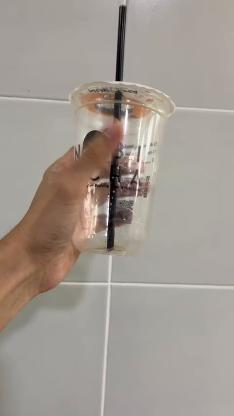Plastic Cup: (69, 81, 176, 255)
